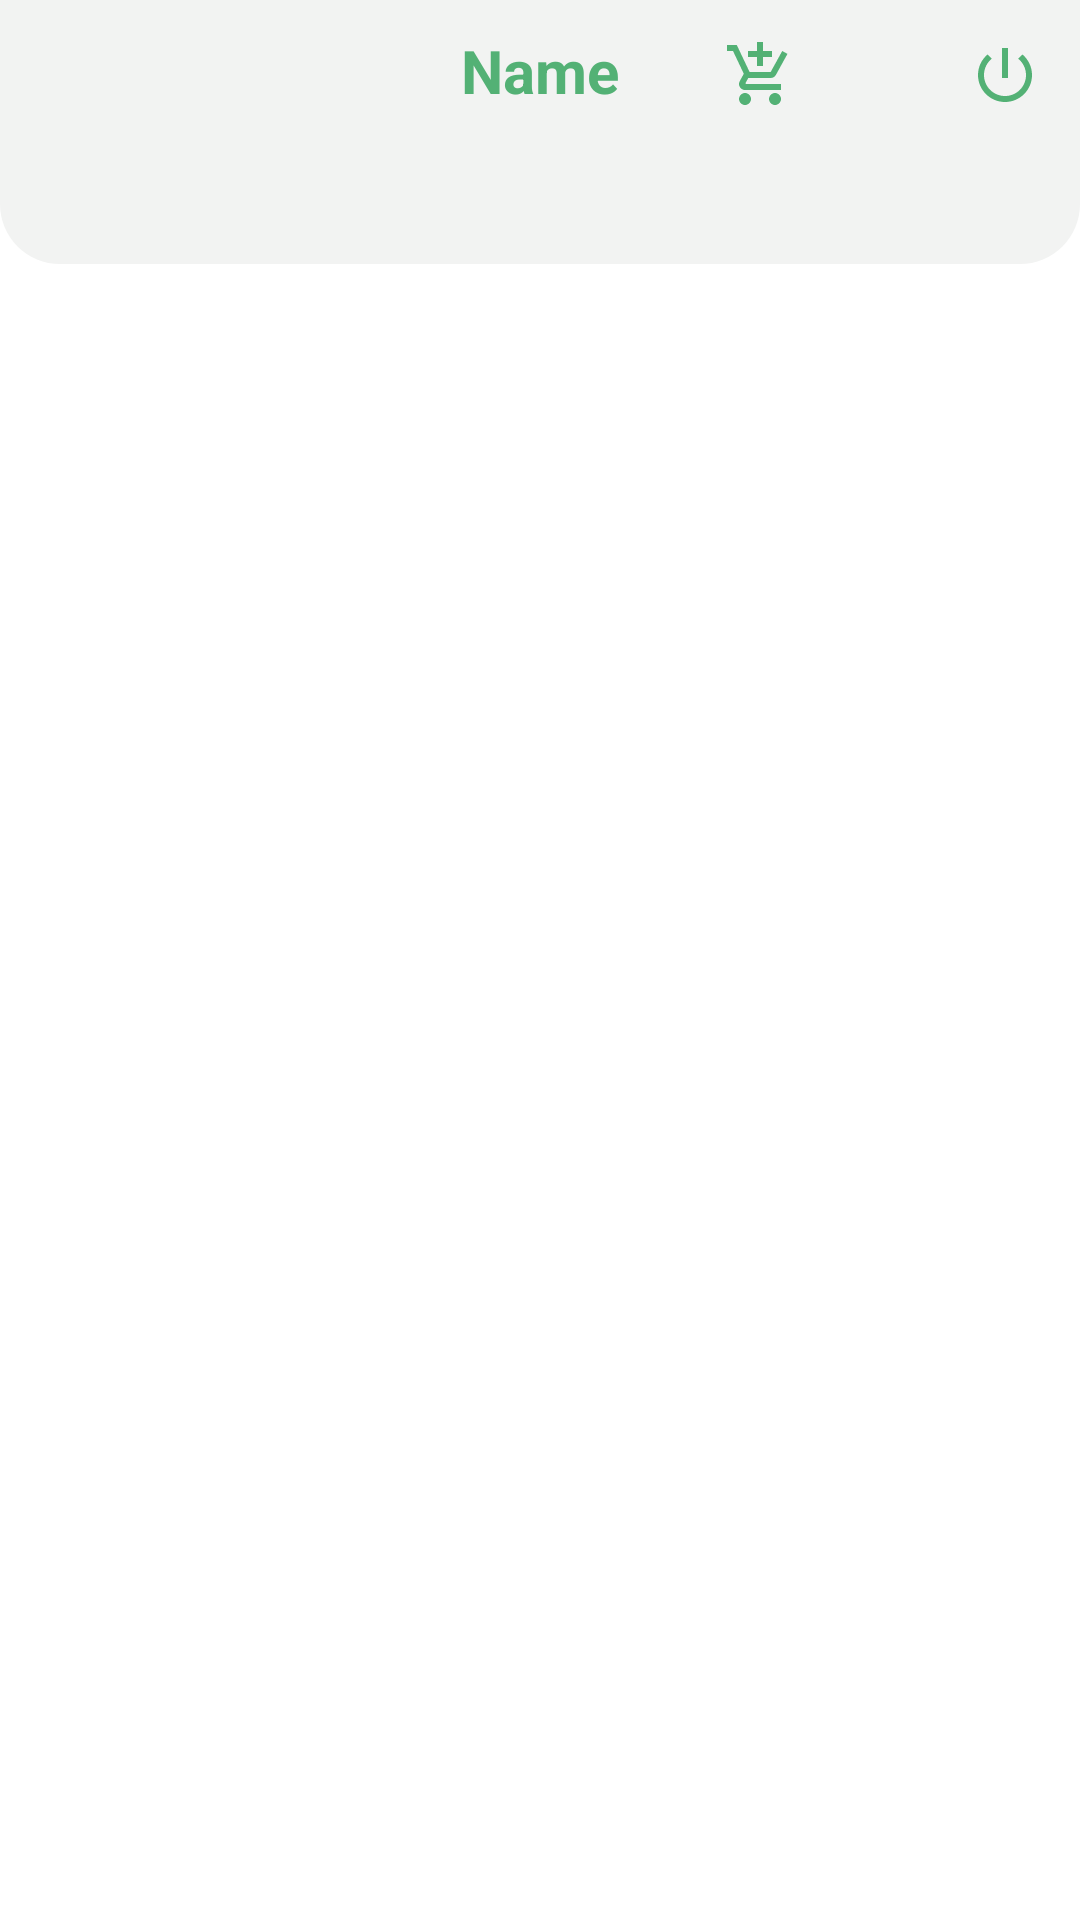

Screen size 1080px x 1920px. Icon name, then its box in pixels as bbox=[x1, y1, x2, y2]:
add shopping cart: bbox=[727, 42, 787, 105]
power settings: bbox=[978, 48, 1032, 102]
